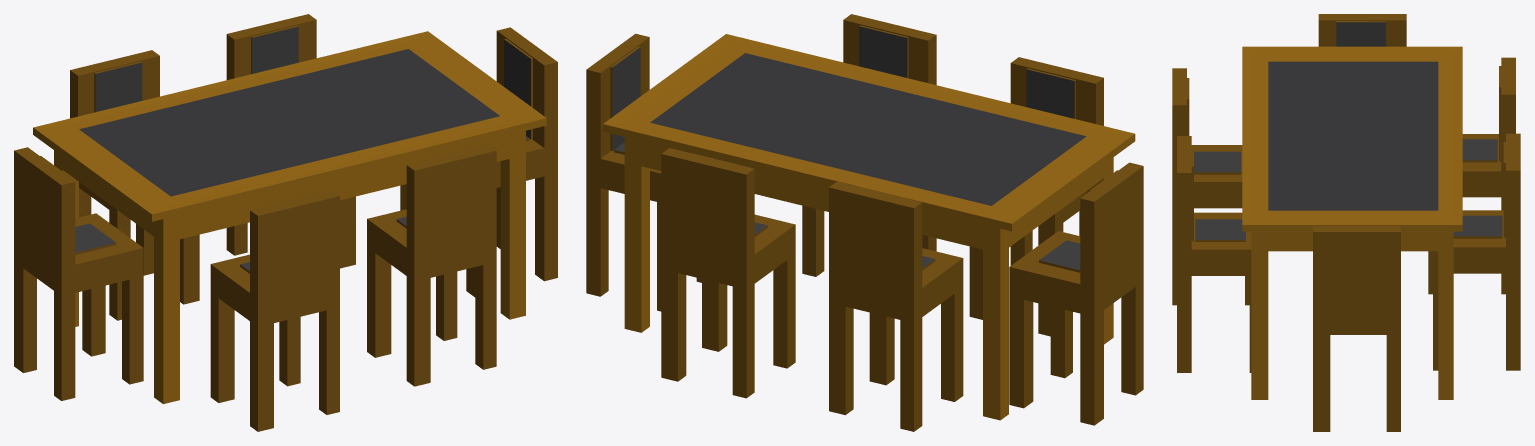
File: TableChaisse.glb
3 renders of one model, left to right at view 1: azimuth 30°, elevation 25°; view 2: azimuth 150°, elevation 25°; view 3: azimuth 270°, elevation 25°, orthographic. The views are drawn at different scales.
Visible parts, largest first — view 1: Table, Chaise.000, Chaisse.000, Chaisse.003, Chaisse.001, Chaise.001, Chaisse.002; view 2: Table, Chaisse.002, Chaise.001, Chaisse.003, Chaisse.001, Chaisse.000, Chaise.000; view 3: Table, Chaisse.001, Chaisse.002, Chaise.000, Chaisse.000, Chaise.001, Chaisse.003.
Boxes of the visible parts, x1,y1,x2,y2 form: Table: (33, 31, 546, 404); Chaise.000: (367, 145, 496, 386); Chaisse.000: (210, 190, 339, 431); Chaisse.003: (14, 147, 143, 400); Chaisse.001: (466, 27, 557, 297); Chaise.001: (70, 50, 199, 320); Chaisse.002: (226, 14, 355, 268); Table: (603, 34, 1135, 420); Chaisse.002: (661, 148, 795, 398); Chaise.001: (829, 181, 963, 431); Chaisse.003: (1009, 162, 1143, 425); Chaisse.001: (586, 33, 701, 311); Chaisse.000: (969, 57, 1103, 336); Chaise.000: (802, 14, 936, 276); Table: (1242, 46, 1462, 399); Chaisse.001: (1313, 226, 1400, 431); Chaisse.002: (1433, 133, 1520, 370); Chaise.000: (1177, 136, 1251, 372); Chaisse.000: (1172, 68, 1249, 305); Chaise.001: (1428, 57, 1515, 294); Chaisse.003: (1318, 14, 1406, 46).
Size of the model in its own units: 9.36 by 4.11 by 6.19.
